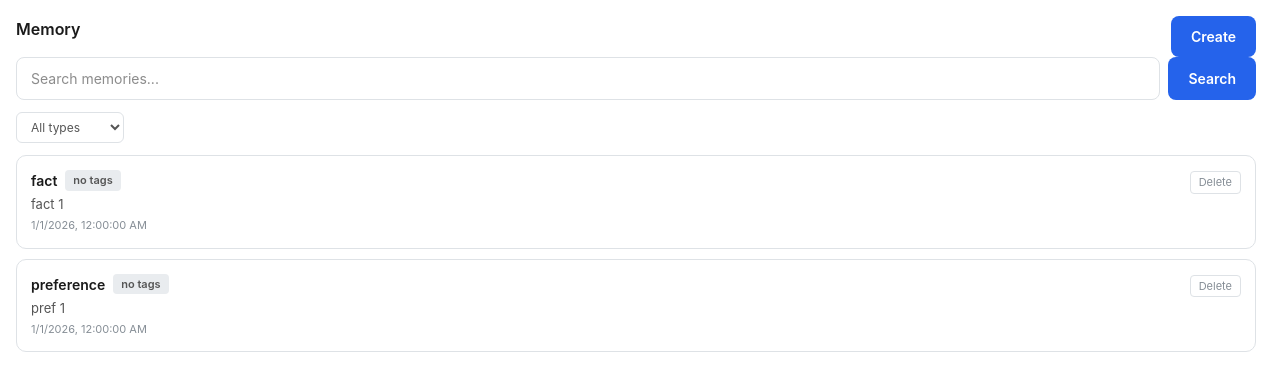
Scenario: MemoryView › filters by type
Expected: the text "fact 1" is shown, 31,196 -> 64,212
Expected: the text "pref 1" is shown, 31,300 -> 65,316
Note: Filter to preference only
Select "Preference" in the dropdown showing "All types" at (70, 128), box 16,112 -> 124,143
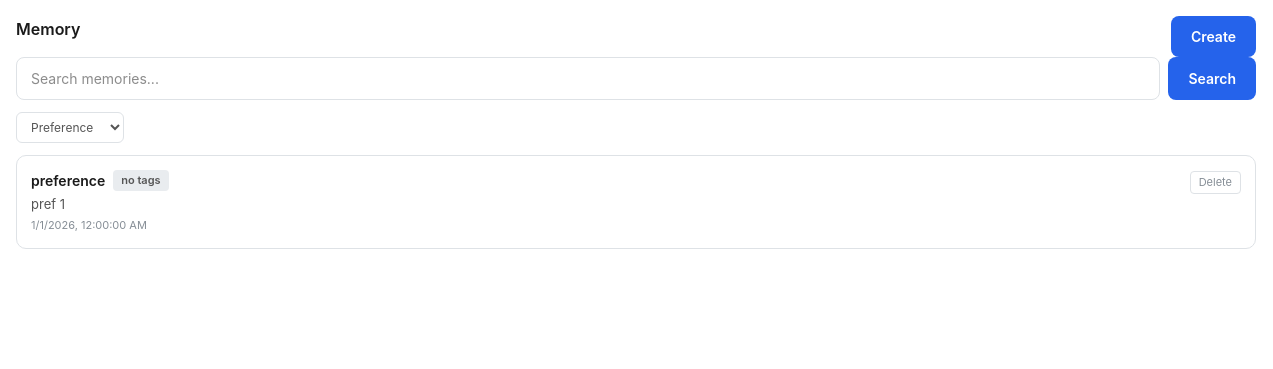
Expected: the text "pref 1" is shown, 31,196 -> 65,212
Now the text "fact 1" is gone
